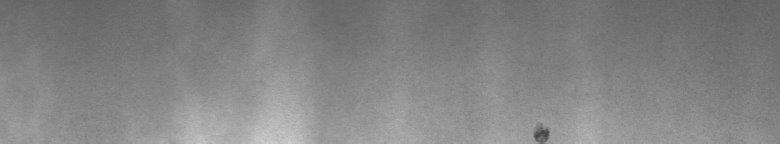fi: (528, 118, 556, 136)
